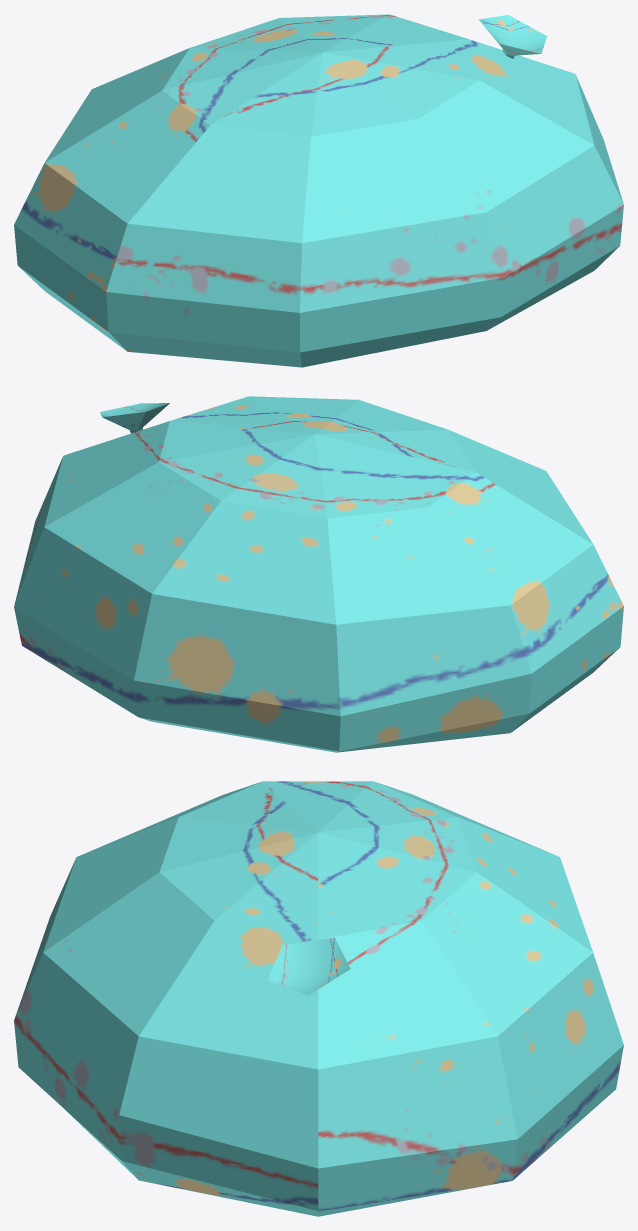
The model's file is WaterBalloon_Landmine_3.fbx.
3 views of the same model, one above another, from view 1: azimuth 30°, elevation 25°; view 2: azimuth 150°, elevation 25°; view 3: azimuth 270°, elevation 25° (orthographic). The views are drawn at different scales.
Parts seen in each view (by area): view 1: pSphere2, pCylinder1; view 2: pSphere2, pCylinder1; view 3: pSphere2, pCylinder1.
Part boxes in pixels (left/top/right/bottom): pSphere2: left=14, top=14, right=623, bottom=367; pCylinder1: left=479, top=15, right=546, bottom=58; pSphere2: left=14, top=396, right=623, bottom=752; pCylinder1: left=100, top=403, right=169, bottom=433; pSphere2: left=14, top=781, right=623, bottom=1216; pCylinder1: left=267, top=937, right=350, bottom=995.
Size of the model in its own units: 626 by 232 by 529.
1 material, 1 textured.
